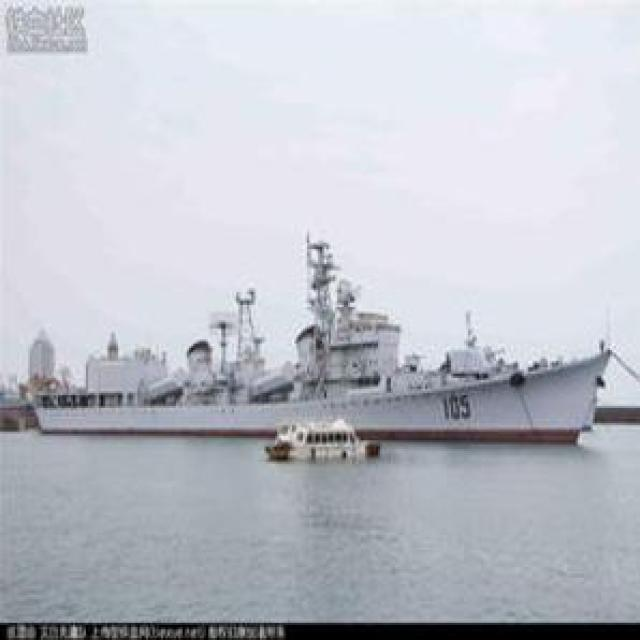houseboat: (257, 414, 389, 474)
navalvessels: (30, 230, 628, 453)
